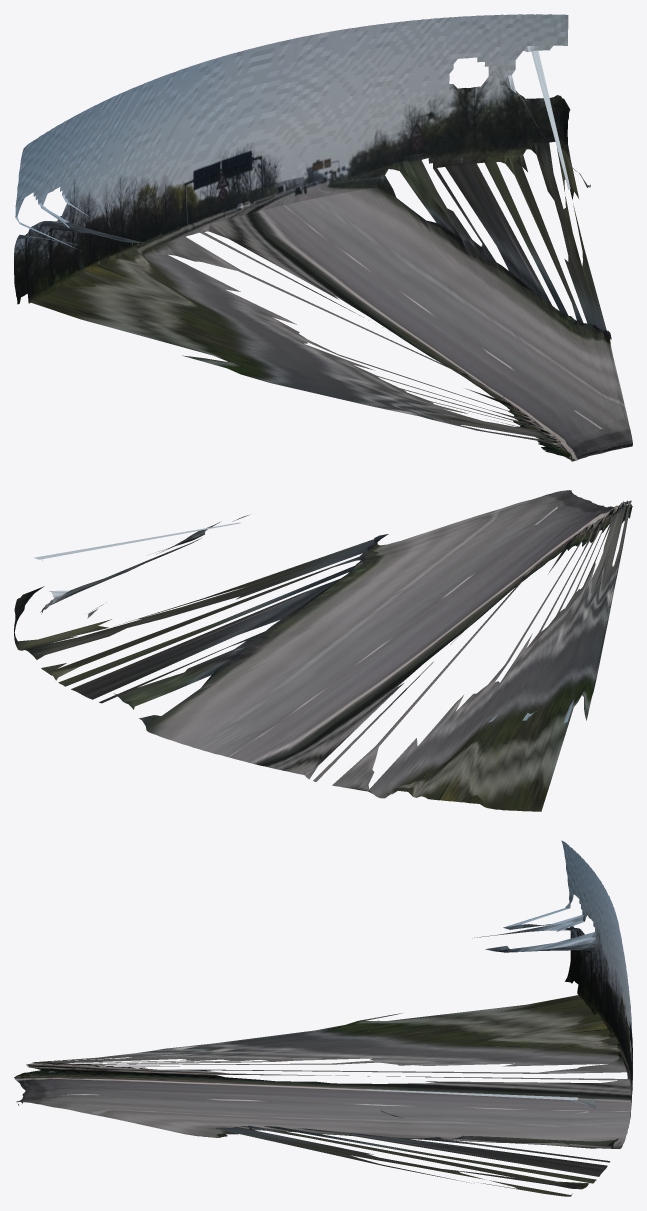
3 views of the same model, one above another, from view 1: azimuth 30°, elevation 25°; view 2: azimuth 150°, elevation 25°; view 3: azimuth 270°, elevation 25° (orthographic). The views are drawn at different scales.
Visible parts, largest first — view 1: defaultobject; view 2: defaultobject; view 3: defaultobject.
Part boxes in pixels (x1,y1,x2,y2): defaultobject: (14,14,632,461); defaultobject: (14,490,632,811); defaultobject: (14,840,632,1196).
Size of the model in its own units: 41.05 by 12.79 by 44.74.
1 material, 1 textured.
